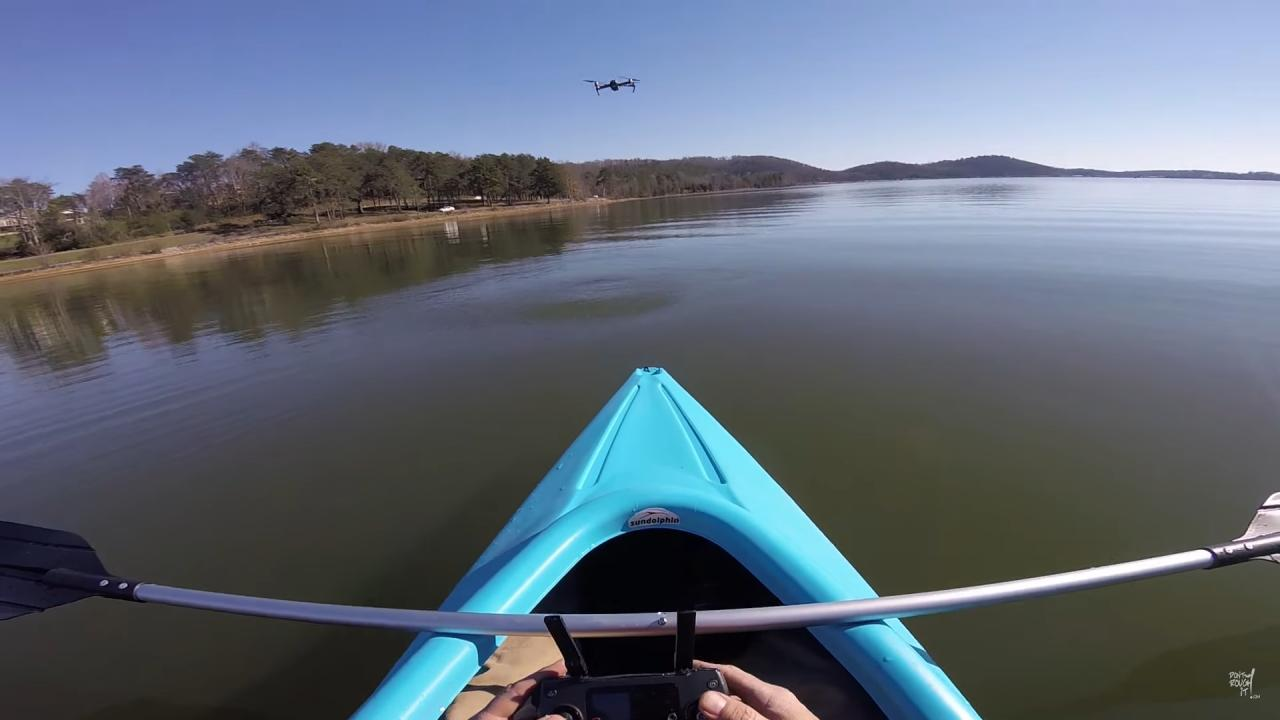Drone: (574, 64, 651, 108)
